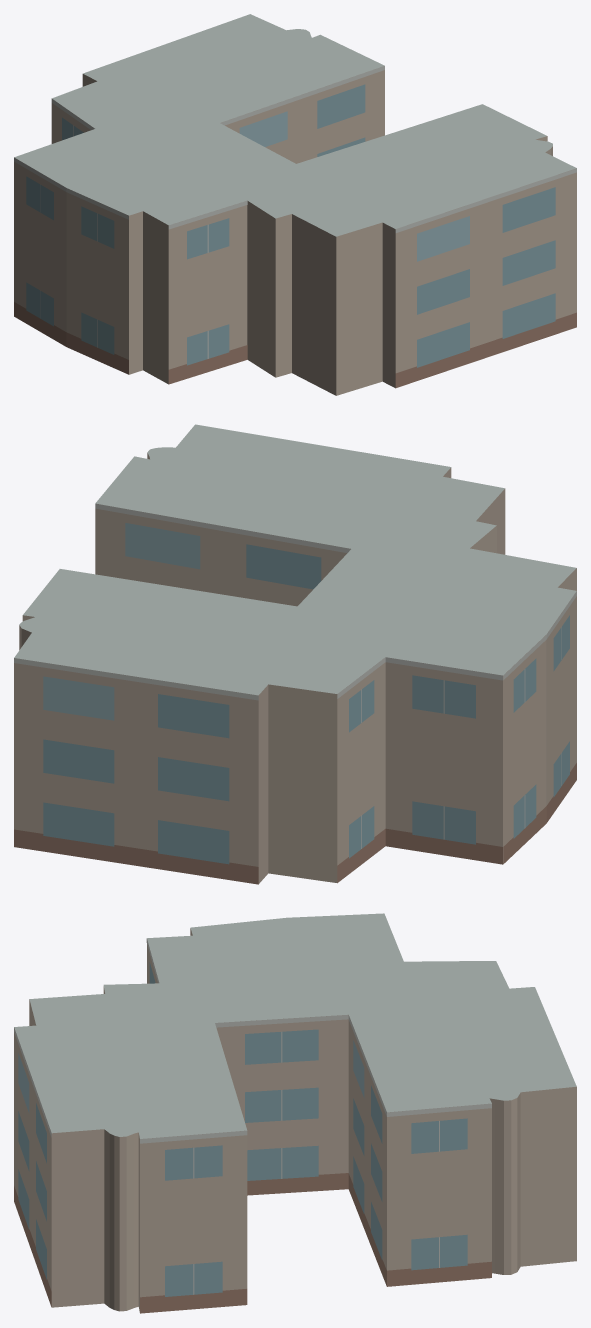
File: survey-upis-32773525.glb
The picture shows the model from 3 angles, top to bottom: view 1: azimuth 30°, elevation 25°; view 2: azimuth 150°, elevation 25°; view 3: azimuth 270°, elevation 25°; orthographic projection. The views are drawn at different scales.
Visible parts, largest first — view 1: survey-upis-32773525.tmp; view 2: survey-upis-32773525.tmp; view 3: survey-upis-32773525.tmp.
Part boxes in pixels (bbox=[...]): survey-upis-32773525.tmp: bbox=[14, 14, 576, 395]; survey-upis-32773525.tmp: bbox=[14, 424, 576, 884]; survey-upis-32773525.tmp: bbox=[14, 913, 576, 1313].
Bounding box in the file's own units: 25.4 × 9.15 × 26.76.
